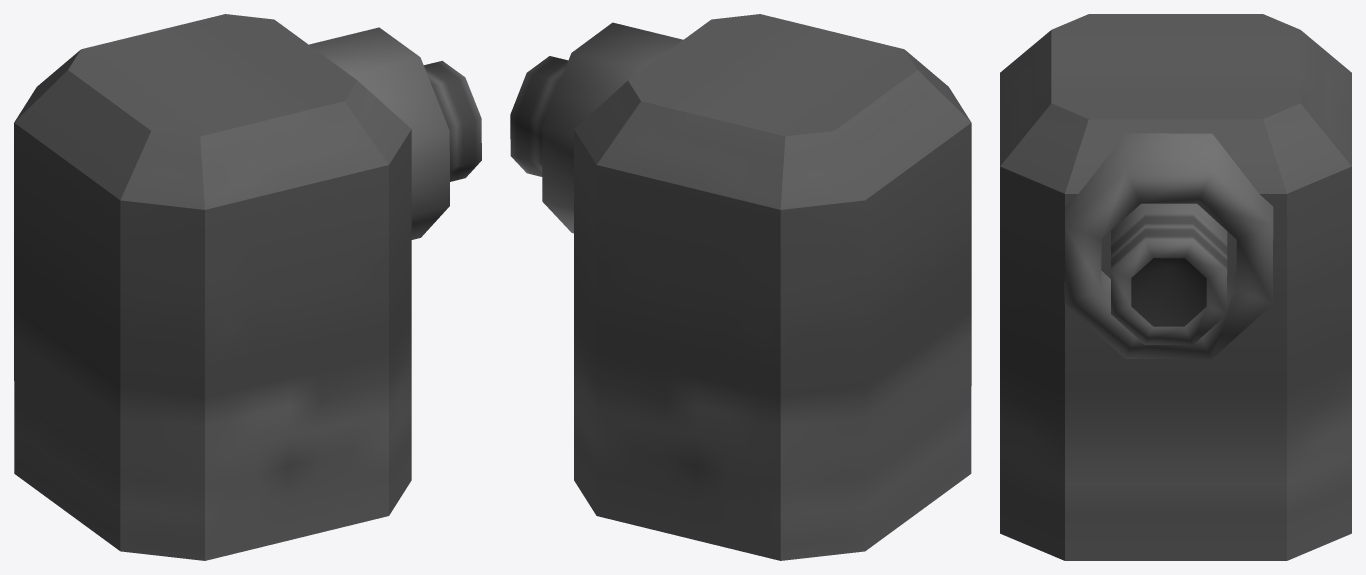
Rendered from Laser1.fbx.
3 renders of one model, left to right at view 1: azimuth 30°, elevation 25°; view 2: azimuth 150°, elevation 25°; view 3: azimuth 270°, elevation 25°, orthographic. The views are drawn at different scales.
Visible parts, largest first — view 1: Laser1; view 2: Laser1; view 3: Laser1.
Part boxes in pixels (x1=…): Laser1: x1=14, y1=14, x2=481, y2=560; Laser1: x1=510, y1=14, x2=971, y2=560; Laser1: x1=1000, y1=14, x2=1351, y2=560.
Size of the model in its own units: 0.3943 by 0.3948 by 0.2995.
